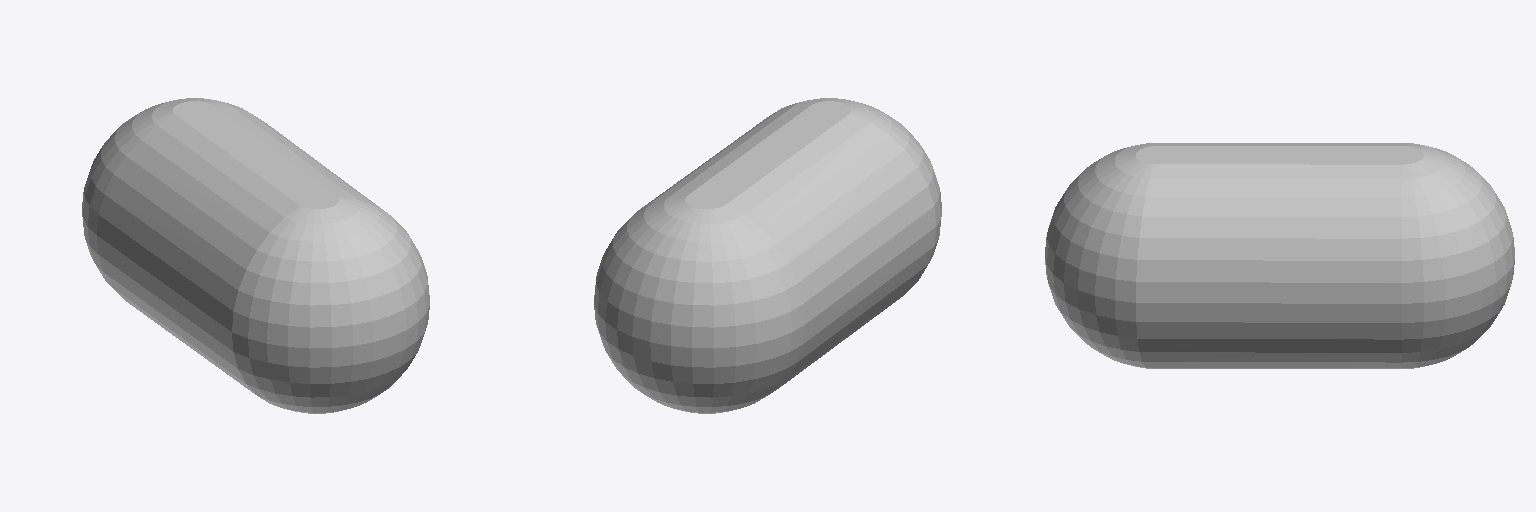
Rendered from BadCapsule.obj.
3 renders of one model, left to right at view 1: azimuth 30°, elevation 25°; view 2: azimuth 150°, elevation 25°; view 3: azimuth 270°, elevation 25°, orthographic.
Parts seen in each view (by area): view 1: Sphere; view 2: Sphere; view 3: Sphere.
Boxes of the visible parts, x1,y1,x2,y2 form: Sphere: [82, 98, 429, 413]; Sphere: [594, 98, 941, 413]; Sphere: [1045, 143, 1514, 368].
Size of the model in its own units: 2 by 1.96 by 4.15.